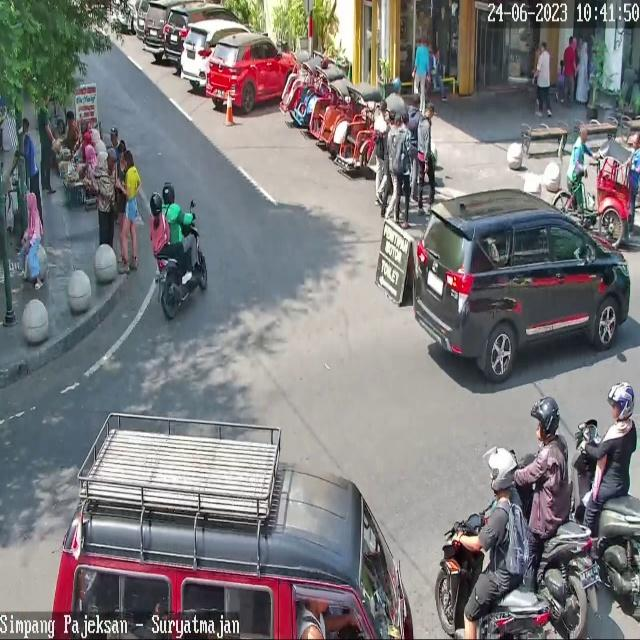bus: (514, 451, 598, 640), (436, 510, 552, 640), (573, 420, 640, 619), (156, 210, 208, 320)
motorcycle: (53, 413, 413, 640), (415, 188, 630, 384), (206, 34, 300, 114), (180, 21, 252, 88), (163, 3, 246, 60), (143, 0, 169, 53)
